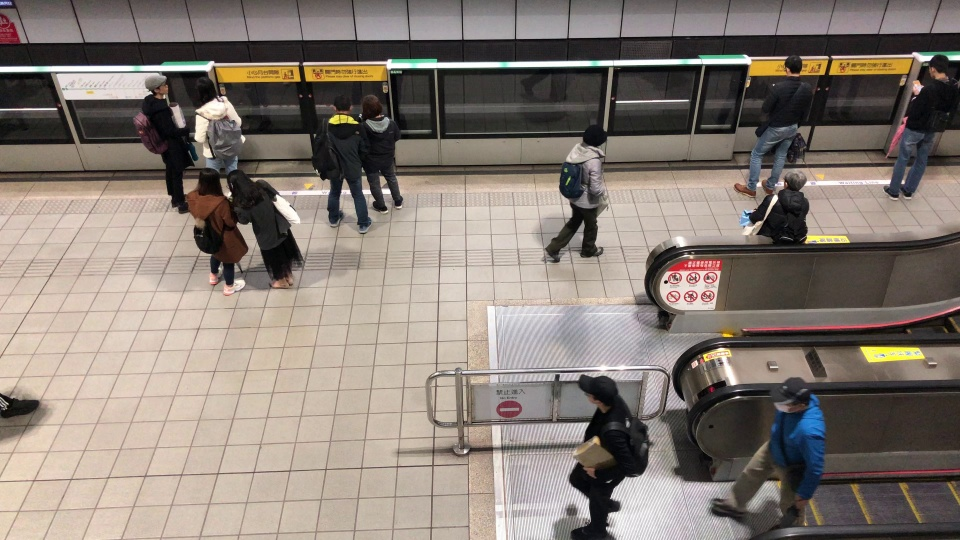person_head: (576, 372, 620, 417), (771, 376, 811, 414), (226, 168, 261, 207), (194, 168, 224, 198), (192, 76, 217, 109), (925, 54, 951, 82), (581, 123, 608, 149), (360, 93, 384, 121), (143, 74, 168, 97), (782, 169, 807, 192), (330, 94, 353, 115), (783, 55, 802, 80)
person_vbox: (708, 376, 826, 536), (563, 371, 651, 539), (879, 54, 960, 201), (732, 56, 808, 198), (222, 167, 305, 291), (132, 74, 198, 214), (544, 123, 609, 261), (308, 95, 372, 234), (184, 167, 249, 296), (186, 75, 246, 177), (357, 91, 404, 215), (741, 169, 810, 245)
